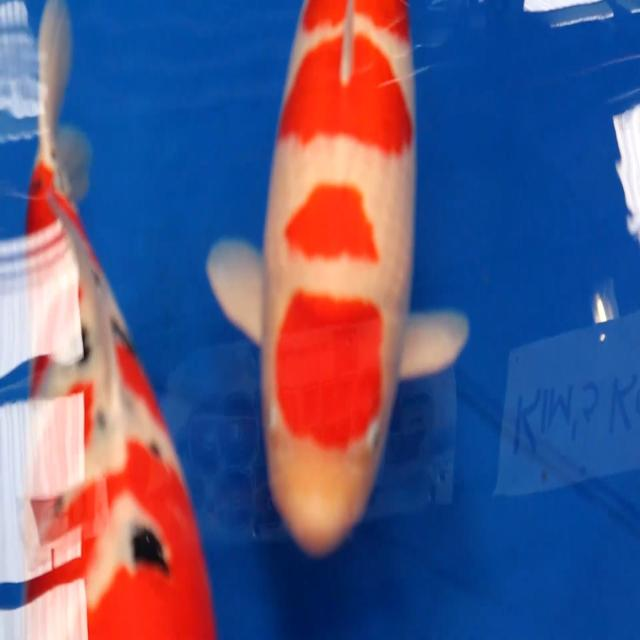Kohaku: (206, 0, 470, 558)
Sanke: (1, 0, 217, 638)
